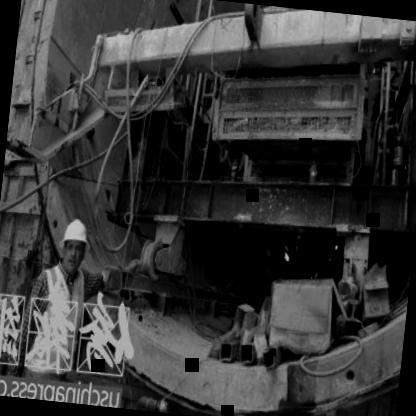helmet: (57, 214, 92, 275)
